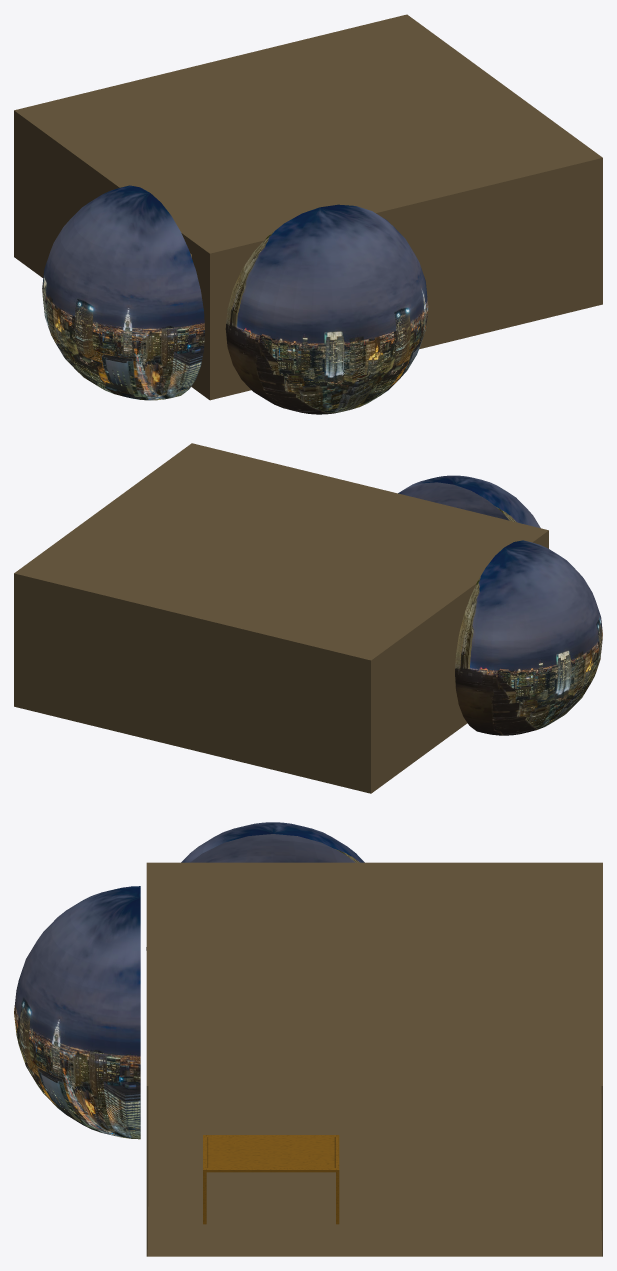
File: Rest_Of_Room.glb
3 views of the same model, one above another, from view 1: azimuth 30°, elevation 25°; view 2: azimuth 150°, elevation 25°; view 3: azimuth 270°, elevation 25° (orthographic). The views are drawn at different scales.
Visible parts, largest first — view 1: Room, Sky; view 2: Room, Sky; view 3: Room, Sky, Table.
Part boxes in pixels (<box>): Room: <box>14,14,602,400</box>; Sky: <box>42,185,428,414</box>; Room: <box>14,443,548,793</box>; Sky: <box>398,475,602,735</box>; Room: <box>146,862,602,1256</box>; Sky: <box>14,822,364,1139</box>; Table: <box>203,1135,339,1224</box>.
Size of the model in its own units: 70.06 by 26.82 by 62.33.
3 materials, 2 textured.
